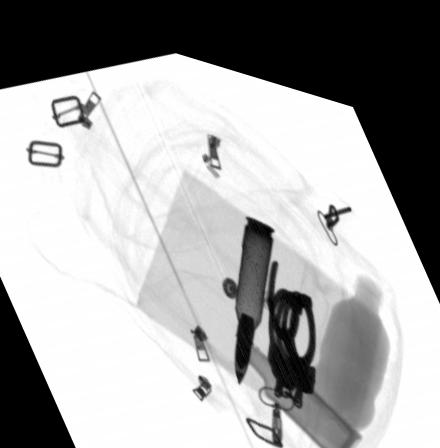Bullet: (233, 201, 272, 368)
HandCuffs: (265, 273, 317, 394)
